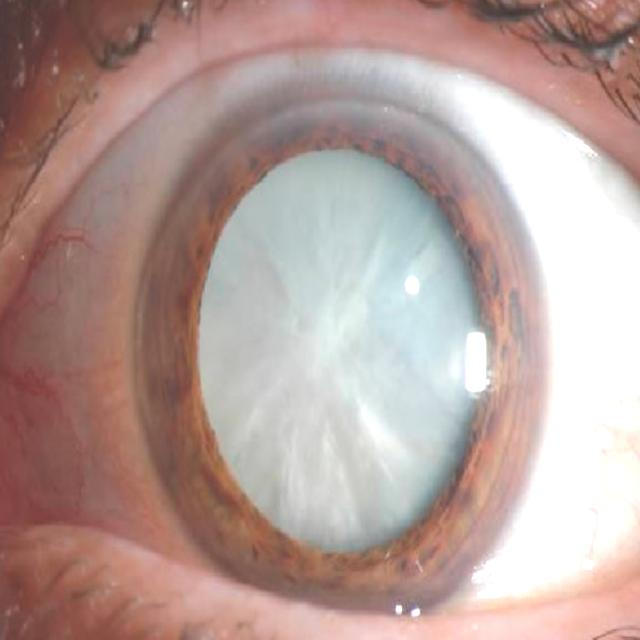Cataract: (121, 50, 538, 610)
